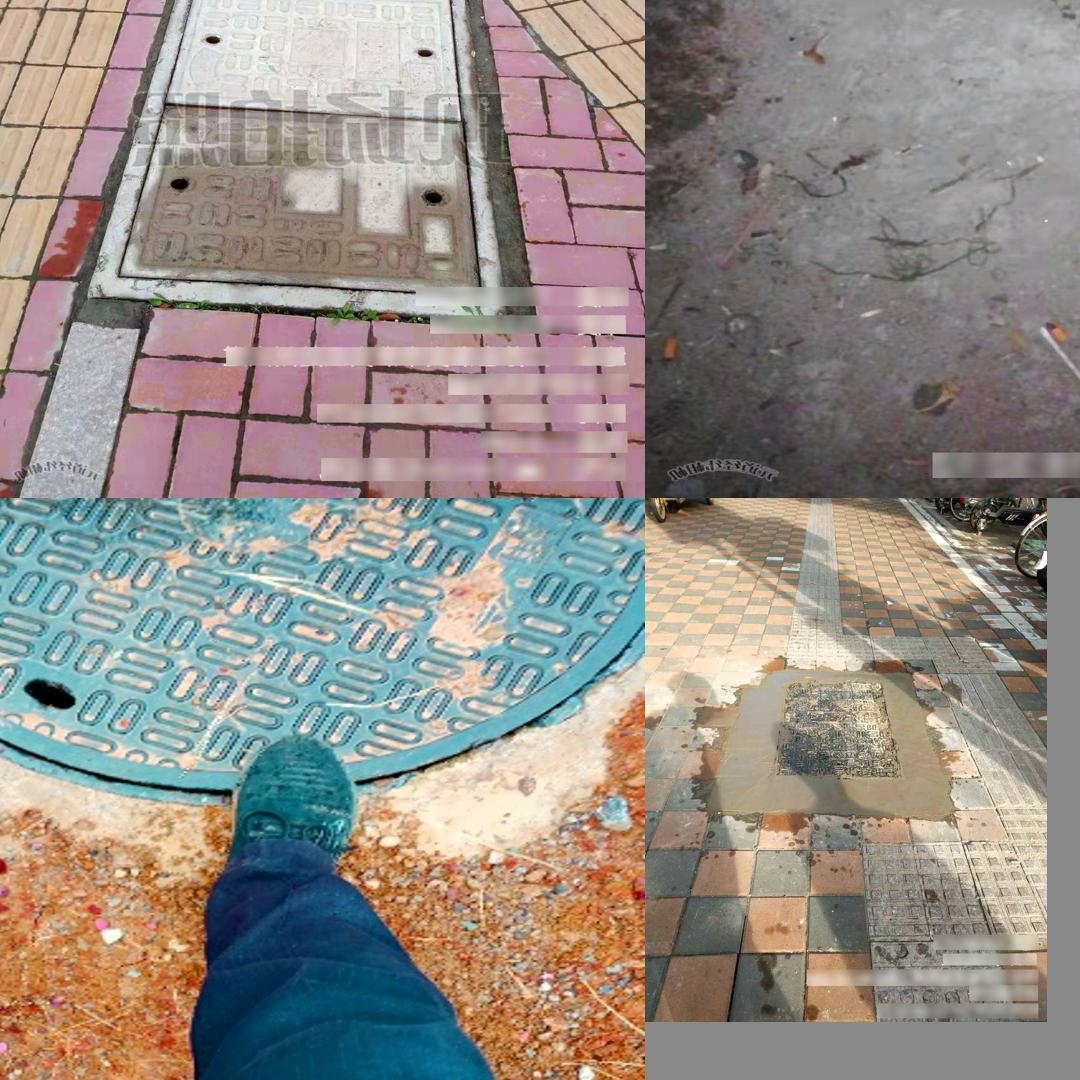good: (0, 499, 642, 810), (138, 0, 475, 291), (645, 0, 1080, 47), (766, 679, 904, 778)
